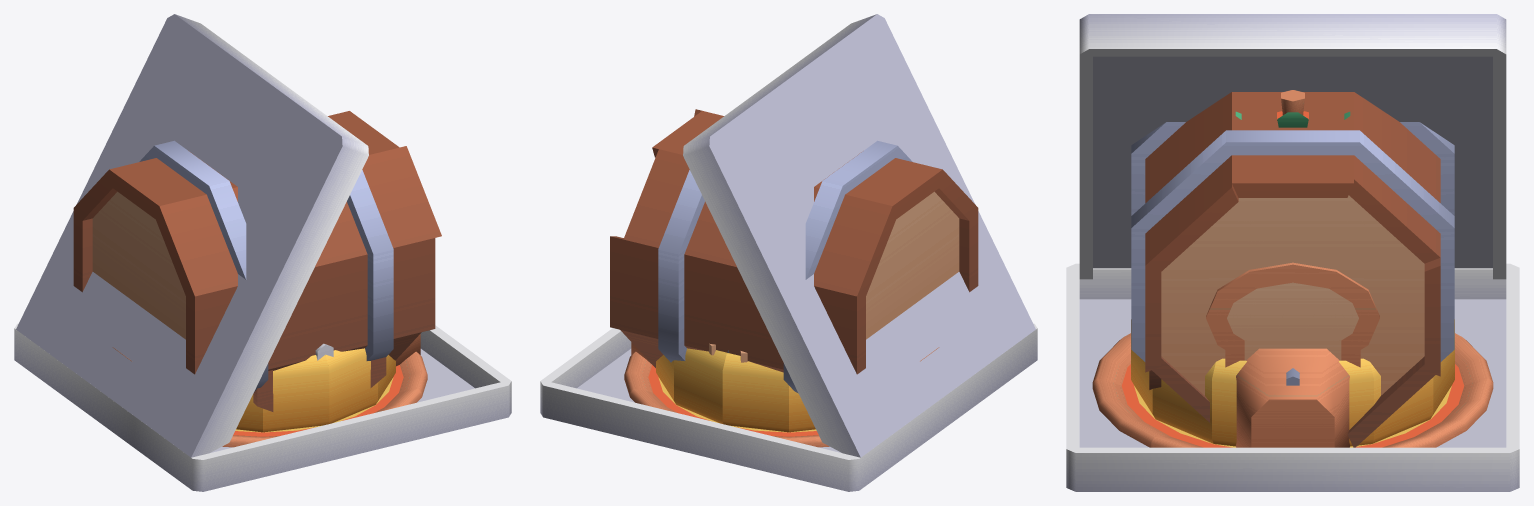
The model's file is kit_food.glb.
3 views of the same model, side by side, from view 1: azimuth 30°, elevation 25°; view 2: azimuth 150°, elevation 25°; view 3: azimuth 270°, elevation 25° (orthographic). The views are drawn at different scales.
Parts seen in each view (by area): view 1: lid, barrel, pizza-box, wedge (×3), whole-ham, slice5, slice6, slice7; view 2: lid, barrel, pizza-box, wedge (×3), slice4, slice3, slice2; view 3: barrel, lid, pizza-box, loaf, loaf-baguette, wedge (×6), slice6, slice3, slice2, slice7, slice5, slice4 (+2 smaller).
Part boxes in pixels (x1,y1,x2,y2): lid: [16, 14, 368, 457]; barrel: [73, 111, 441, 392]; pizza-box: [14, 323, 511, 491]; wedge (×3): [236, 348, 377, 432]; whole-ham: [253, 343, 386, 411]; slice5: [385, 351, 427, 396]; slice6: [332, 389, 421, 423]; slice7: [222, 425, 321, 447]; lid: [683, 14, 1035, 457]; barrel: [610, 109, 978, 393]; pizza-box: [540, 323, 1037, 491]; wedge (×3): [674, 348, 815, 432]; slice4: [624, 351, 666, 396]; slice3: [630, 389, 719, 423]; slice2: [730, 425, 829, 447]; barrel: [1131, 92, 1454, 447]; lid: [1079, 14, 1506, 279]; pizza-box: [1066, 263, 1519, 491]; loaf: [1206, 262, 1379, 367]; loaf-baguette: [1235, 348, 1350, 447]; wedge (×6): [1131, 319, 1454, 446]; slice6: [1092, 378, 1184, 447]; slice3: [1401, 378, 1493, 447]; slice2: [1451, 333, 1493, 385]; slice7: [1092, 333, 1134, 385]; slice5: [1151, 431, 1235, 447]; slice4: [1350, 431, 1434, 447].
Size of the model in its own units: 0.9418 by 0.9032 by 0.9518.
1 material, 1 textured.
